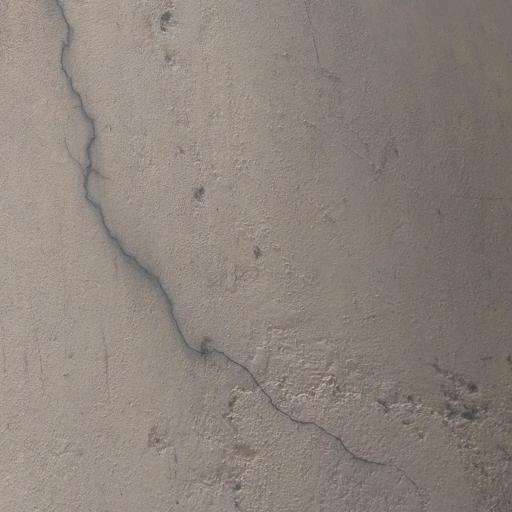minor_crack: (49, 0, 434, 511)
